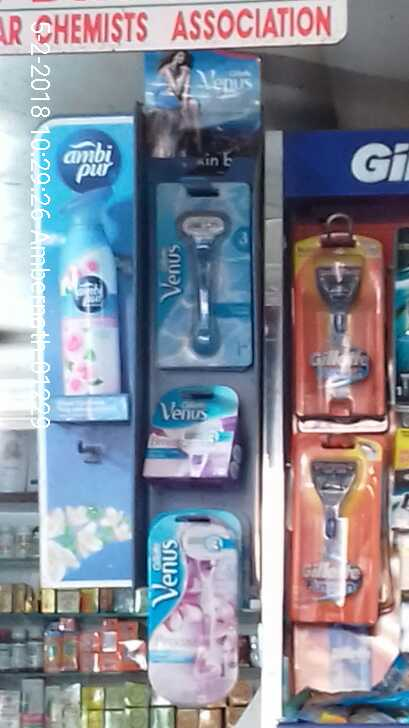beauty: (153, 179, 253, 366), (293, 234, 385, 422), (148, 511, 240, 697), (293, 441, 384, 623), (142, 390, 243, 471)
home: (59, 185, 120, 393)
